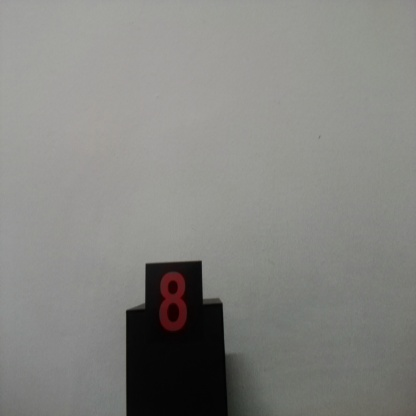id_8: (145, 263, 203, 353)
